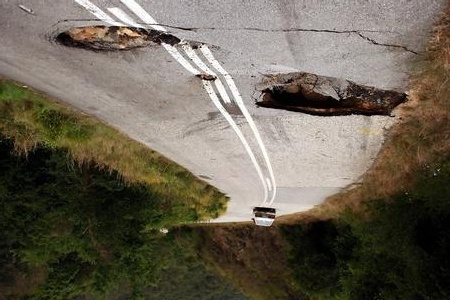pothole: (252, 70, 412, 122), (47, 22, 182, 56), (190, 72, 219, 84)
